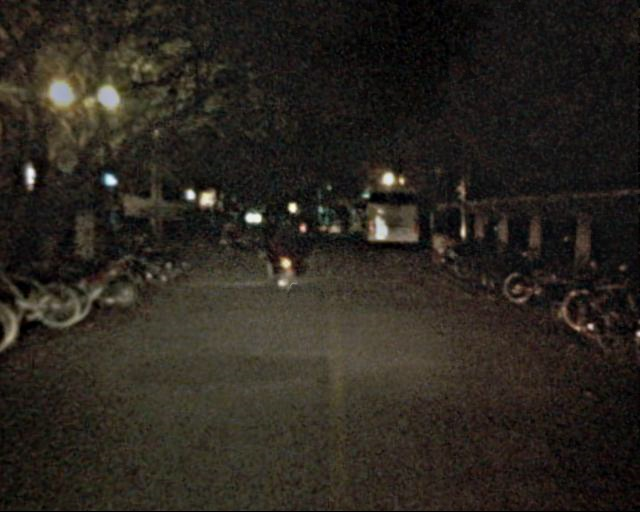person: (265, 217, 293, 285), (217, 212, 238, 264), (335, 217, 353, 242)
